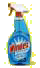grozi_26: (6, 2, 34, 66)
